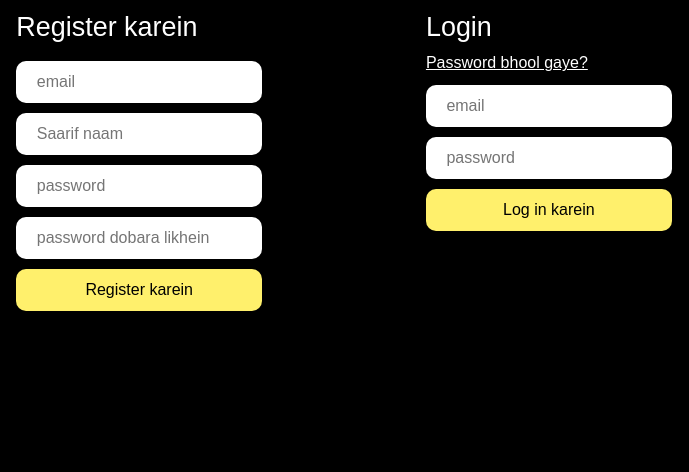
TotalAuth Frontend Tests › should display error messages for empty registration fields
This screenshot has width=689, height=472.
// Click the submit button for registration
Click the submit button at (139, 290), box x1=16 y1=269 x2=262 y2=311
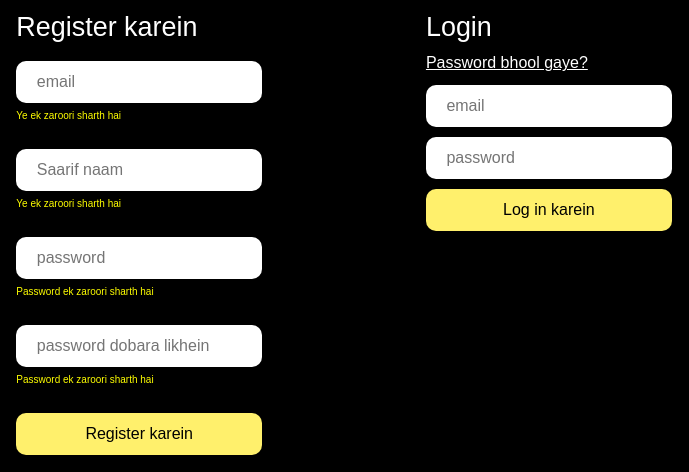
Result: the number of elements with class "field-error" is 4 at x1=16 y1=110 x2=121 y2=121; x1=16 y1=198 x2=121 y2=209; x1=16 y1=286 x2=154 y2=297; x1=16 y1=374 x2=154 y2=385
